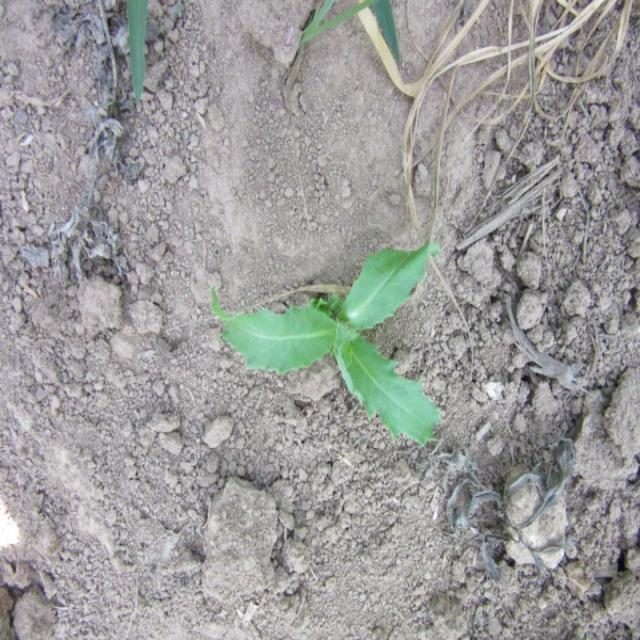cs: (207, 237, 450, 456)
